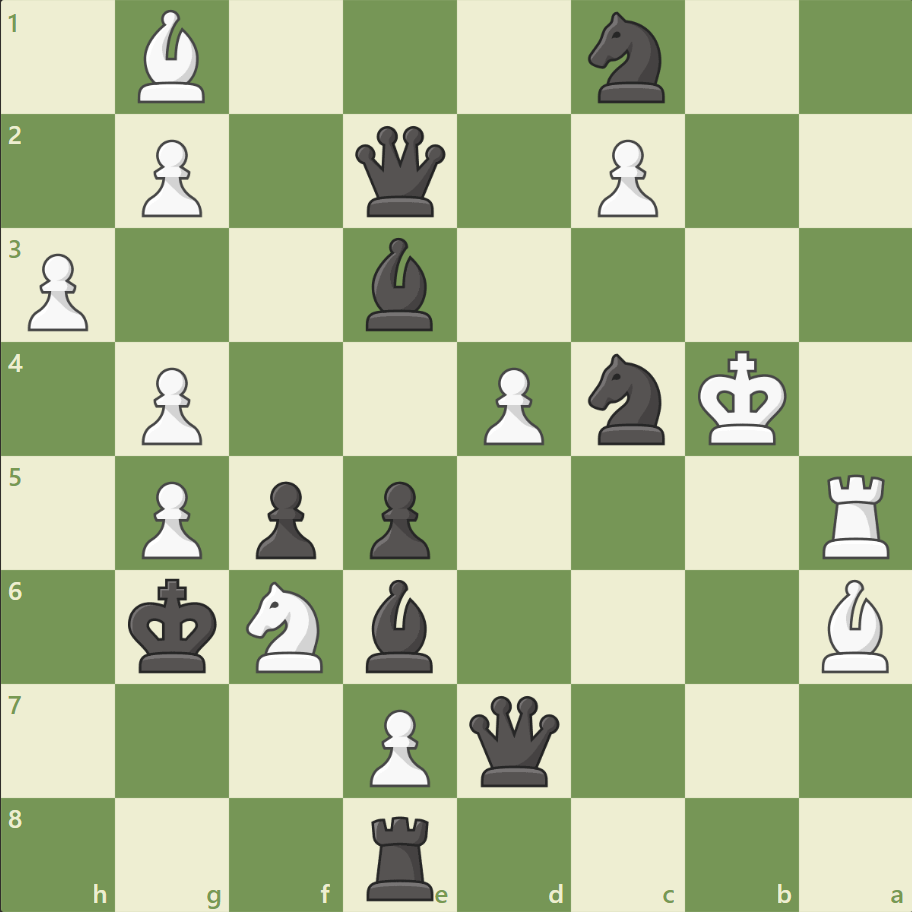B: (131, 6, 215, 109), (812, 574, 896, 676)
K: (692, 344, 792, 452)
N: (238, 575, 335, 677)
P: (133, 473, 208, 564), (474, 359, 549, 450), (133, 359, 208, 450), (20, 246, 95, 337), (133, 132, 208, 223), (361, 700, 435, 791), (588, 132, 662, 223)
R: (814, 466, 897, 563)
b: (358, 233, 442, 336), (358, 574, 442, 676)
k: (124, 571, 224, 679)
n: (579, 7, 676, 110), (579, 348, 676, 450)
p: (247, 473, 322, 564), (361, 473, 435, 564)
q: (351, 122, 450, 222), (464, 690, 563, 789)
r: (360, 806, 442, 904)
